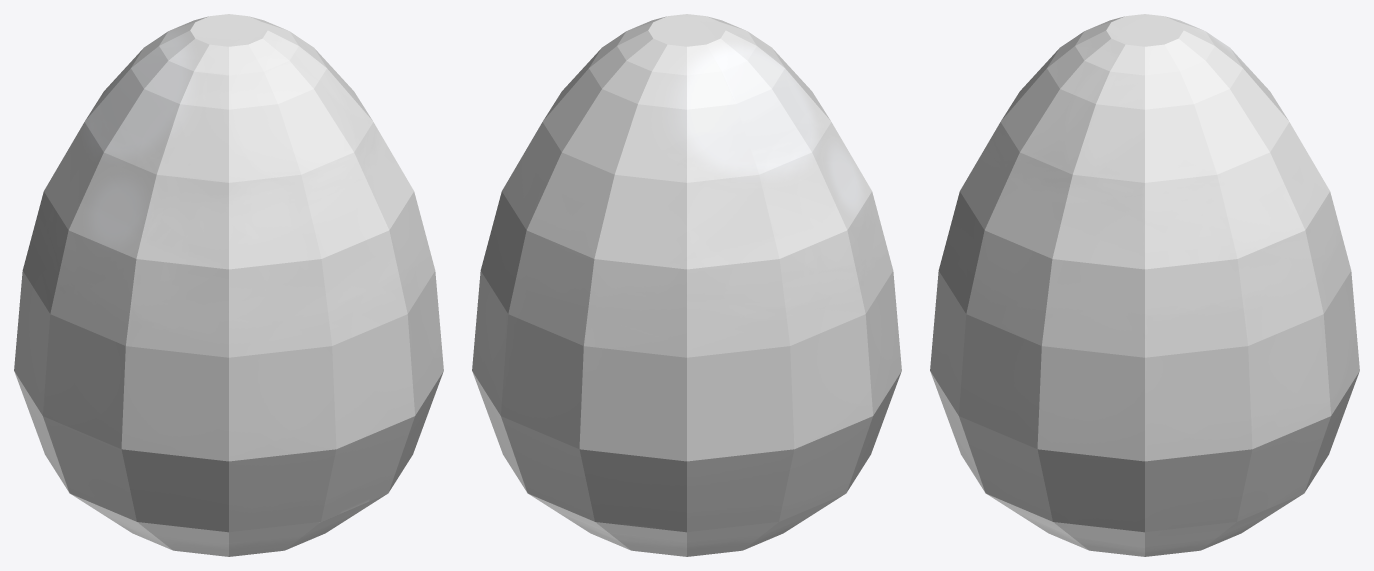
The model's file is Egg.fbx.
3 renders of one model, left to right at view 1: azimuth 30°, elevation 25°; view 2: azimuth 150°, elevation 25°; view 3: azimuth 270°, elevation 25°, orthographic.
Visible parts, largest first — view 1: Egg; view 2: Egg; view 3: Egg.
Part boxes in pixels (x1=…): Egg: x1=14, y1=14, x2=443, y2=556; Egg: x1=472, y1=14, x2=901, y2=556; Egg: x1=930, y1=14, x2=1359, y2=556.
Size of the model in its own units: 36.66 by 46.19 by 36.66.
